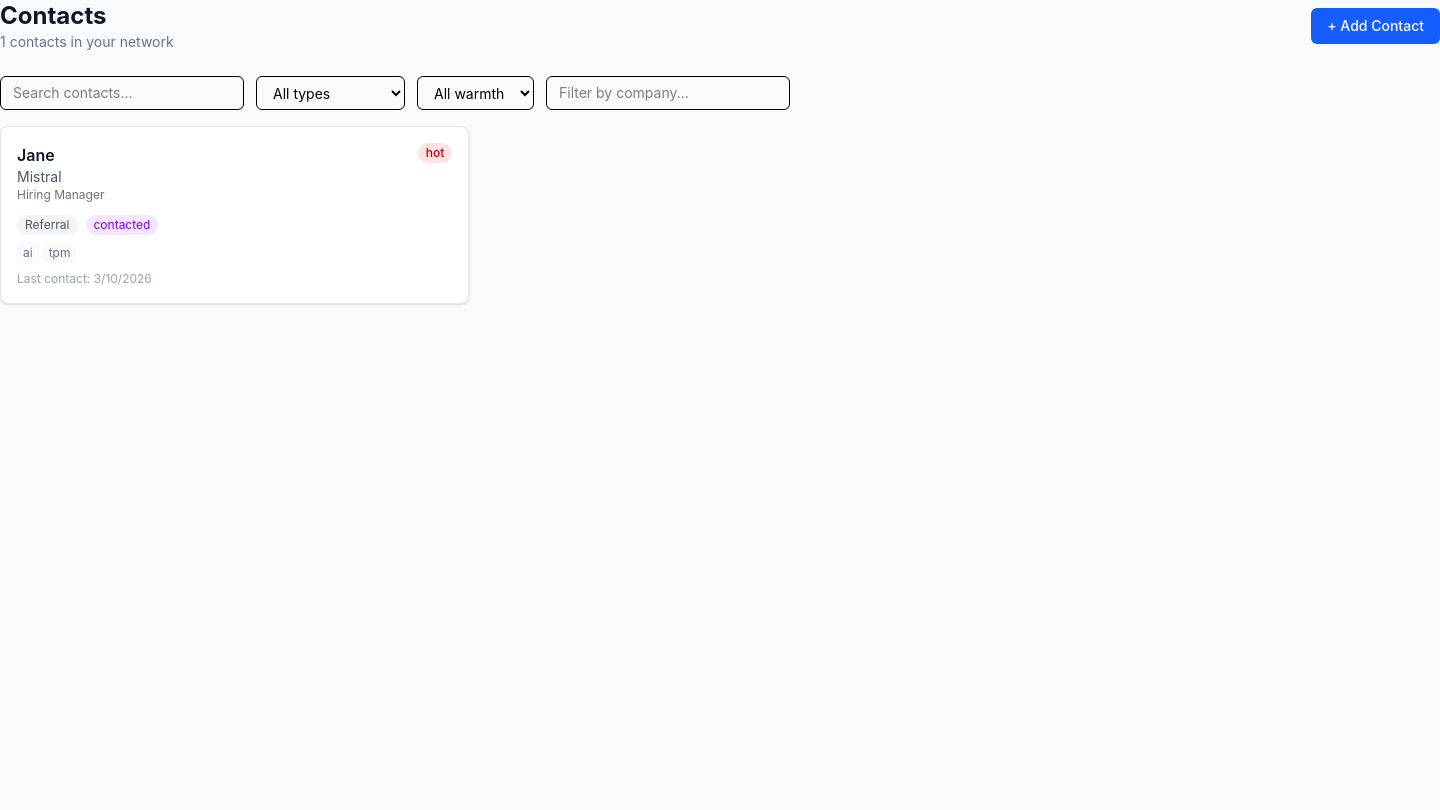
Test: ContactsPage › shows log interaction dialog
Check: the heading "Jane" is shown, box 17,145 -> 55,165
# Open contact detail
Click the button with test id "contact-card-1".
click(36, 155)  # box 0,126 -> 469,304
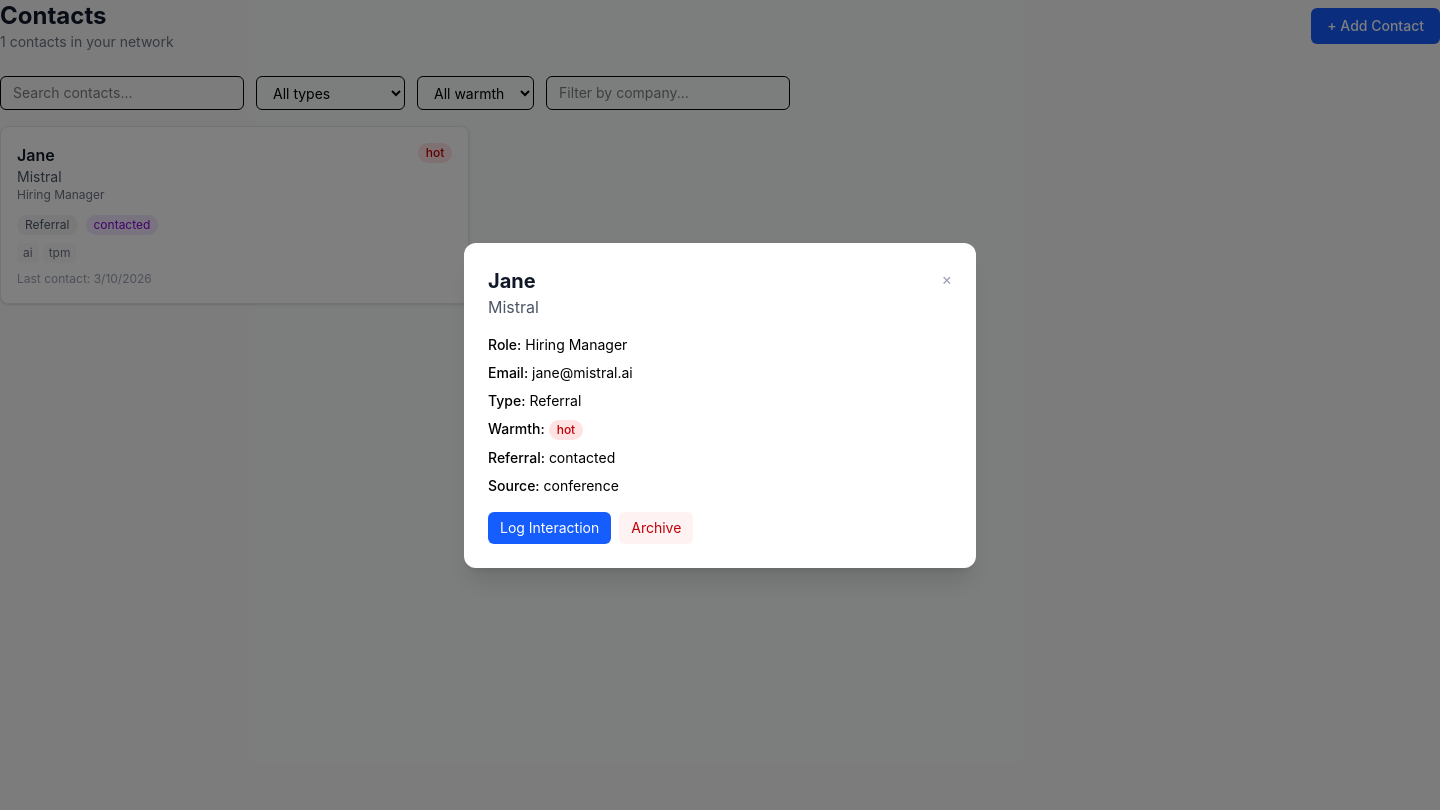
Check: the button "Log Interaction" is shown
Click the button "Log Interaction".
click(550, 528)  # box 488,512 -> 611,544
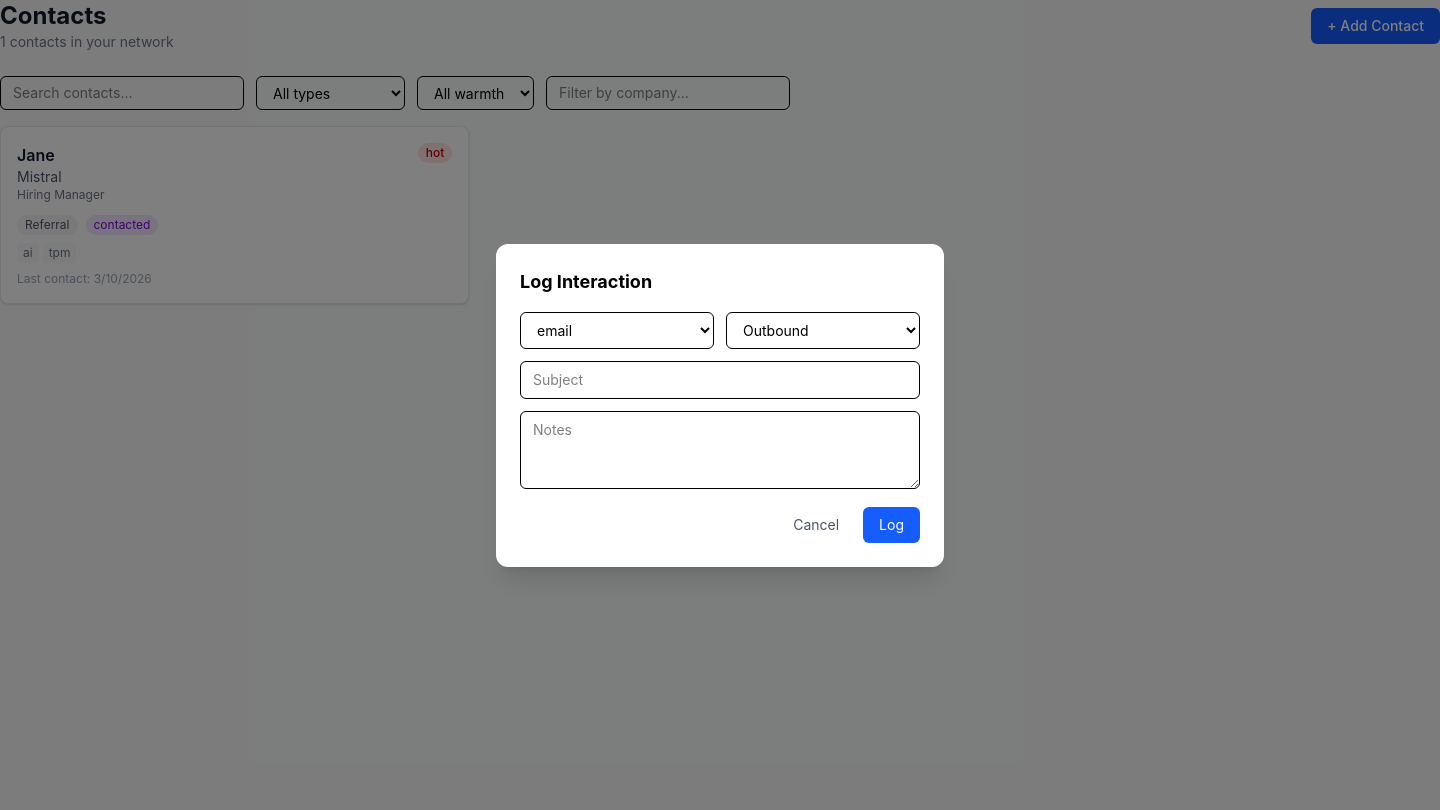
Check: the element with test id "log-interaction-dialog" is shown
